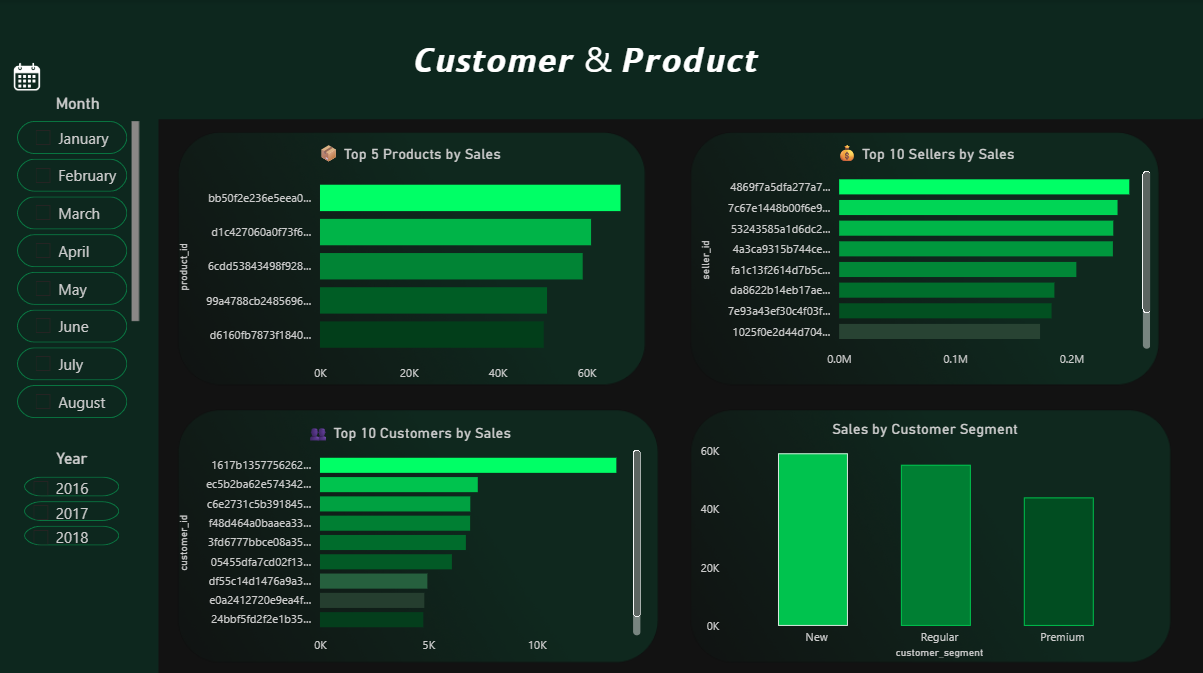

This screenshot's page, from the dashboard's own definition file:
{"tool":"powerbi","page":{"name":"Customer & Product","canvas":[1280,720],"ordinal":2},"visuals":[{"type":"clusteredBarChart","title":"👥 Top 10 Customers by Sales","fields":{"Y":["public fact_sales.Total Sales"],"Category":["public dim_customer.customer_id"]},"box":[185.5,446.8,500,256.5],"z":0},{"type":"clusteredBarChart","title":"📦 Top 5 Products by Sales","fields":{"Y":["public fact_sales.Total Sales"],"Category":["public dim_product.product_id"]},"box":[185.5,151.6,500,262.9],"z":1000},{"type":"clusteredBarChart","title":"💰 Top 10 Sellers by Sales","fields":{"Category":["public dim_seller.seller_id"],"Y":["public fact_sales.Total Sales"]},"box":[740.3,151.6,487.1,248.4],"z":2000},{"type":"clusteredColumnChart","title":"Sales by Customer Segment","fields":{"Y":["public fact_sales.Total Sales"],"Category":["public dim_marketing.customer_segment"]},"box":[740.3,446.8,487.1,256.5],"z":3000},{"type":"listSlicer","fields":{"Values":["public dim_date.full_date.Variation.Date Hierarchy.Month"]},"box":[14.5,100,140.3,353.2],"z":4000},{"type":"listSlicer","fields":{"Values":["public dim_date.full_date.Variation.Date Hierarchy.Year"]},"box":[22.6,477.4,111.3,241.9],"z":5000},{"type":"image","box":[0,53.2,61.3,59.7],"z":6000},{"type":"textbox","box":[435.5,32.3,454.8,67.7],"z":7000}]}

Visuals, with their boxes in screenshot pixels (x1, y1, x2, y2), scaled from the page's 1280x720 canvas onto the 1203x673 screenshot:
"👥 Top 10 Customers by Sales" clusteredBarChart: [x1=174, y1=418, x2=644, y2=657]
"📦 Top 5 Products by Sales" clusteredBarChart: [x1=174, y1=142, x2=644, y2=387]
"💰 Top 10 Sellers by Sales" clusteredBarChart: [x1=696, y1=142, x2=1154, y2=374]
"Sales by Customer Segment" clusteredColumnChart: [x1=696, y1=418, x2=1154, y2=657]
listSlicer - public dim_date.full_date.Variation.Date Hierarchy.Month: [x1=14, y1=93, x2=145, y2=424]
listSlicer - public dim_date.full_date.Variation.Date Hierarchy.Year: [x1=21, y1=446, x2=126, y2=672]
image: [x1=0, y1=50, x2=58, y2=106]
textbox: [x1=409, y1=30, x2=837, y2=93]
